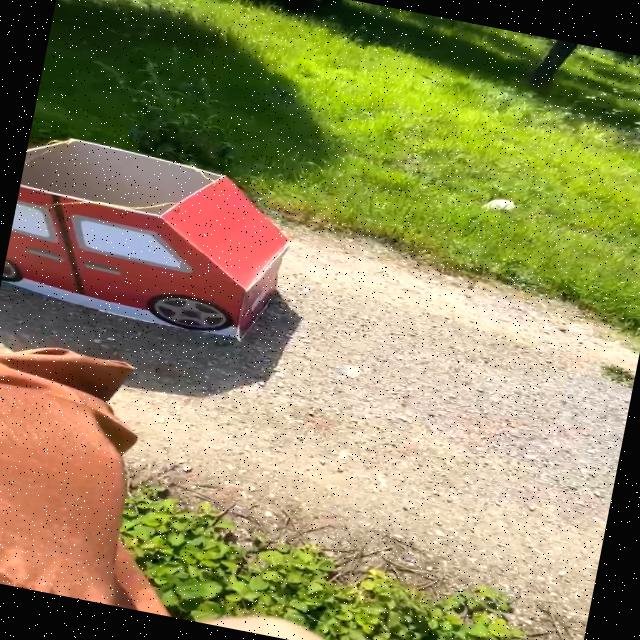red_car: (0, 122, 334, 374)
